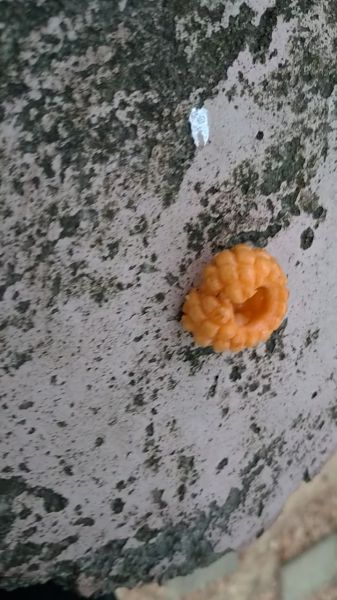eggs: (175, 237, 295, 355)
